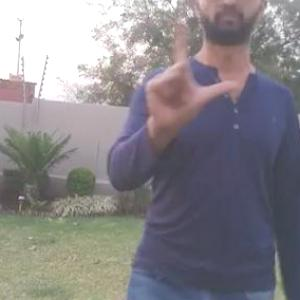land_hand: (134, 13, 239, 133)
